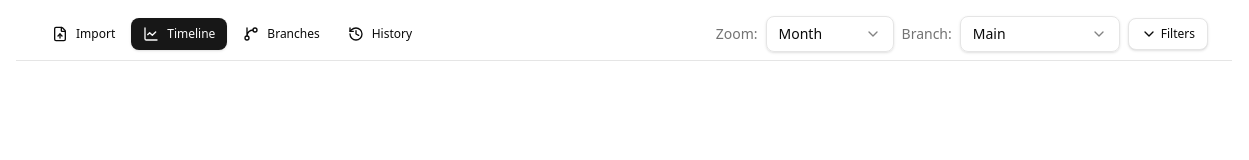
Scenario: TabNavigation › Timeline Controls › should expand/collapse filter section when Filters button clicked
Check: the text "Group:" is not shown
Note: Click Filters button to expand
Step 1. Click the button "Filters" → click(1168, 34), box [1128,18,1208,50]
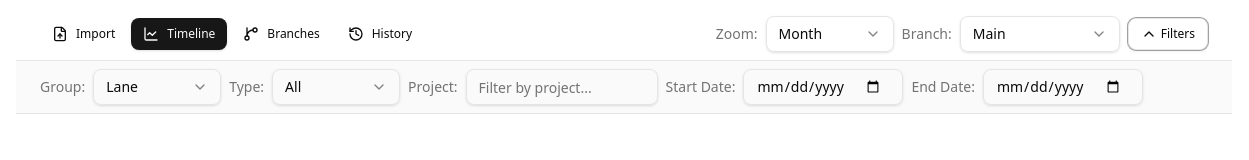
Check: the text "Group:" is shown, box [40,77,85,97]
Check: the text "Type:" is shown, box [229,77,264,97]
Check: the text "Project:" is shown, box [408,77,458,97]
Note: Click again to collapse
Step 2. Click the button "Filters" → click(1168, 34), box [1128,18,1208,50]
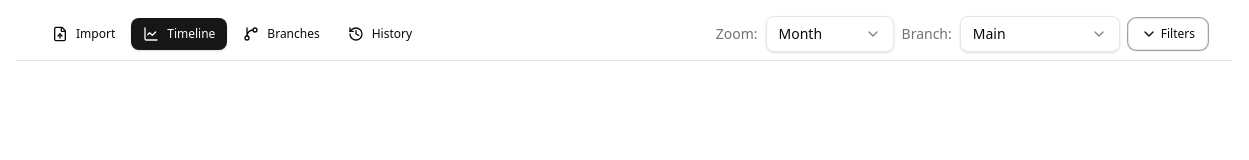
Check: the text "Group:" is gone
